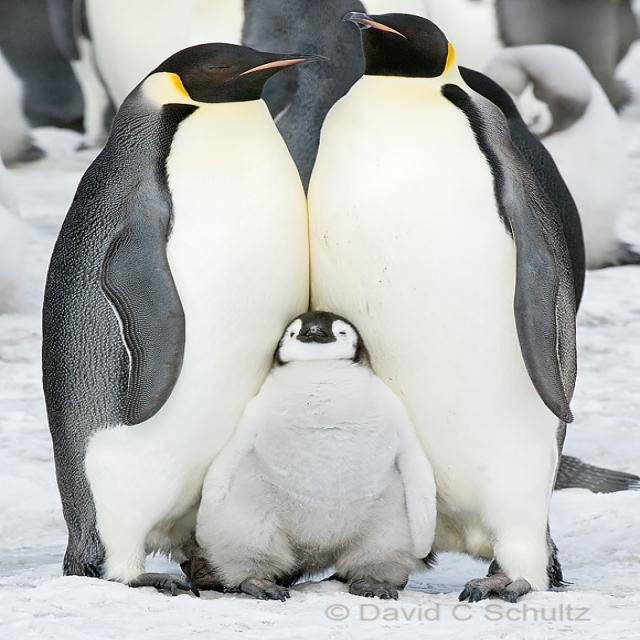Penguins: (302, 7, 597, 599), (56, 29, 320, 600), (201, 294, 431, 598)
